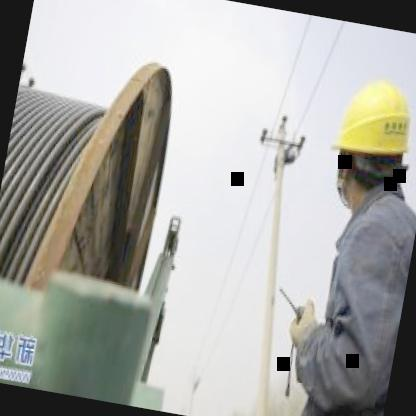helmet: (318, 56, 416, 218)
